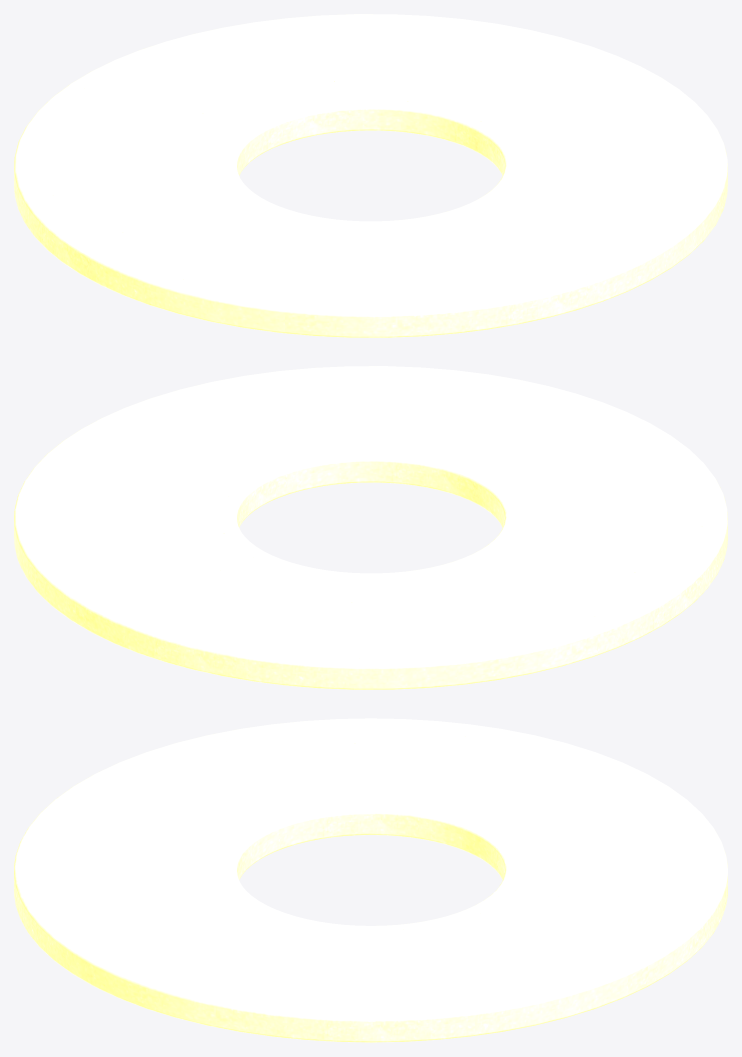
3 views of the same model, one above another, from view 1: azimuth 30°, elevation 25°; view 2: azimuth 150°, elevation 25°; view 3: azimuth 270°, elevation 25° (orthographic).
Parts seen in each view (by area): view 1: mesh_0; view 2: mesh_0; view 3: mesh_0.
Boxes of the visible parts, x1,y1,x2,y2 form: mesh_0: (14, 14, 727, 337); mesh_0: (14, 366, 727, 689); mesh_0: (14, 718, 727, 1042).
Size of the model in its own units: 0.048 by 0.0018 by 0.048.
